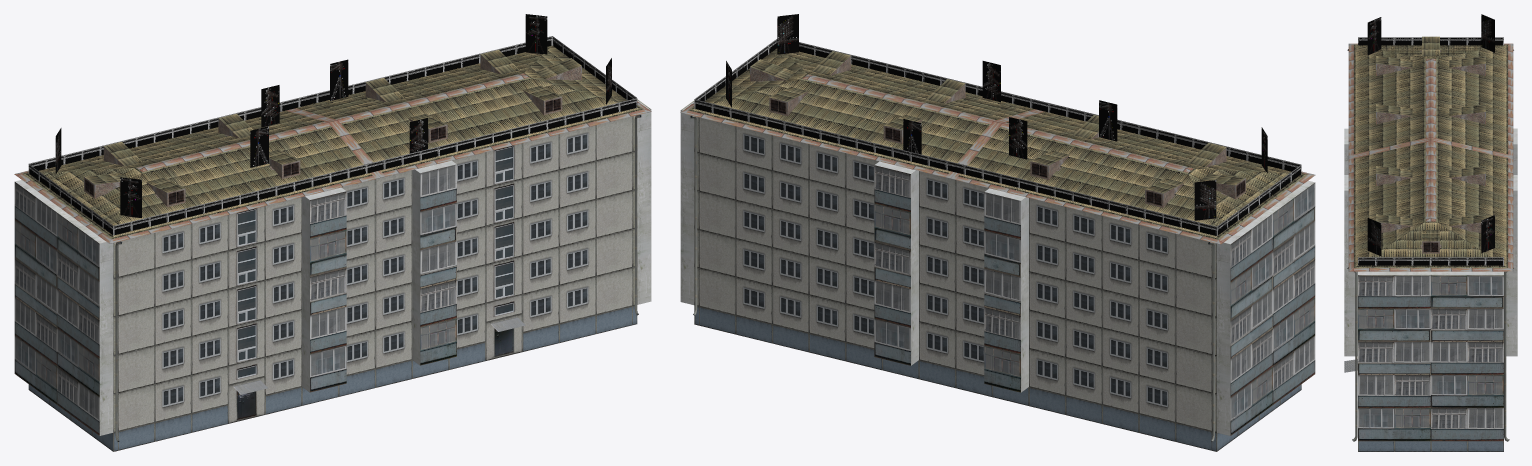
The model's file is rus_build_5et_02.fbx.
The picture shows the model from 3 angles, left to right: view 1: azimuth 30°, elevation 25°; view 2: azimuth 150°, elevation 25°; view 3: azimuth 270°, elevation 25°; orthographic projection. The views are drawn at different scales.
Parts seen in each view (by area): view 1: Regroup13, rus_build_dec_01; view 2: Regroup13, rus_build_dec_01; view 3: Regroup13, rus_build_dec_01.
Part boxes in pixels (x1=…): Regroup13: x1=14, y1=45, x2=651, y2=451; rus_build_dec_01: x1=28, y1=14, x2=637, y2=235; Regroup13: x1=680, y1=48, x2=1315, y2=451; rus_build_dec_01: x1=694, y1=14, x2=1301, y2=235; Regroup13: x1=1344, y1=36, x2=1517, y2=451; rus_build_dec_01: x1=1358, y1=14, x2=1503, y2=265.
Bounding box in the file's own units: 4200 × 1925 × 1330.
